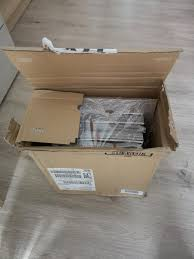damaged package: (15, 85, 172, 153)
